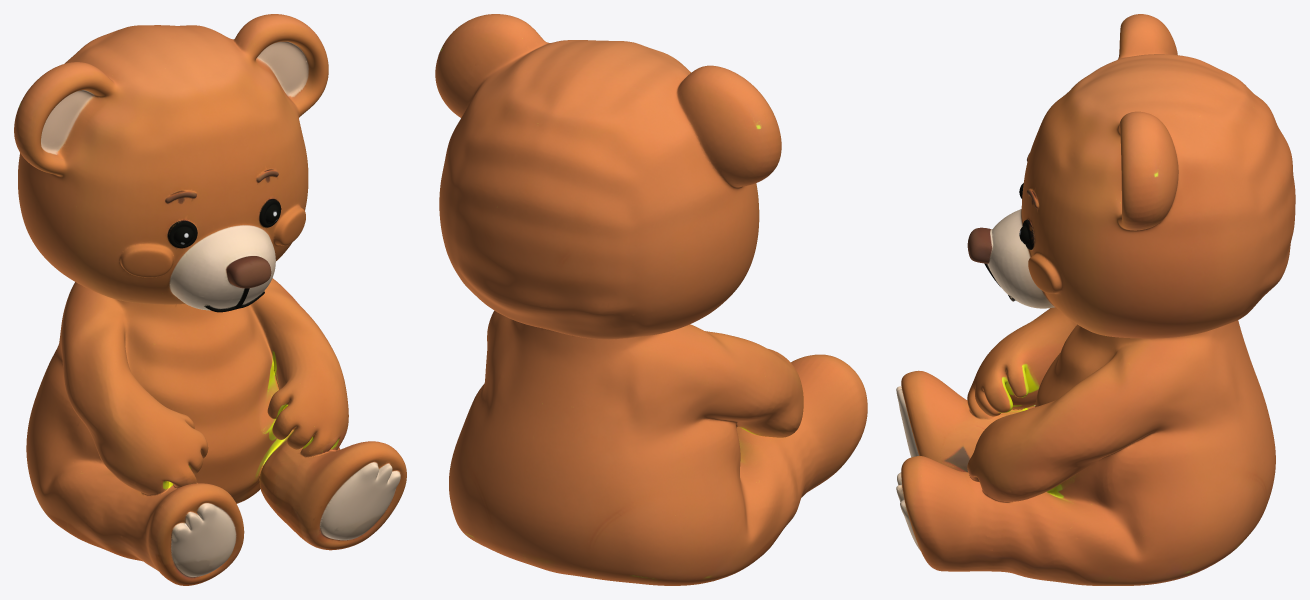
File: Meshy_AI_a_stylized_teddy_bear_0318173126_texture.fbx
3 views of the same model, side by side, from view 1: azimuth 30°, elevation 25°; view 2: azimuth 150°, elevation 25°; view 3: azimuth 270°, elevation 25° (orthographic). The views are drawn at different scales.
Visible parts, largest first — view 1: Mesh_0; view 2: Mesh_0; view 3: Mesh_0.
Boxes of the visible parts, left/top/right/bottom form: Mesh_0: left=14, top=14, right=406, bottom=585; Mesh_0: left=435, top=14, right=867, bottom=585; Mesh_0: left=896, top=14, right=1295, bottom=585.
Size of the model in its own units: 134 by 190 by 148.
1 material, 1 textured.
